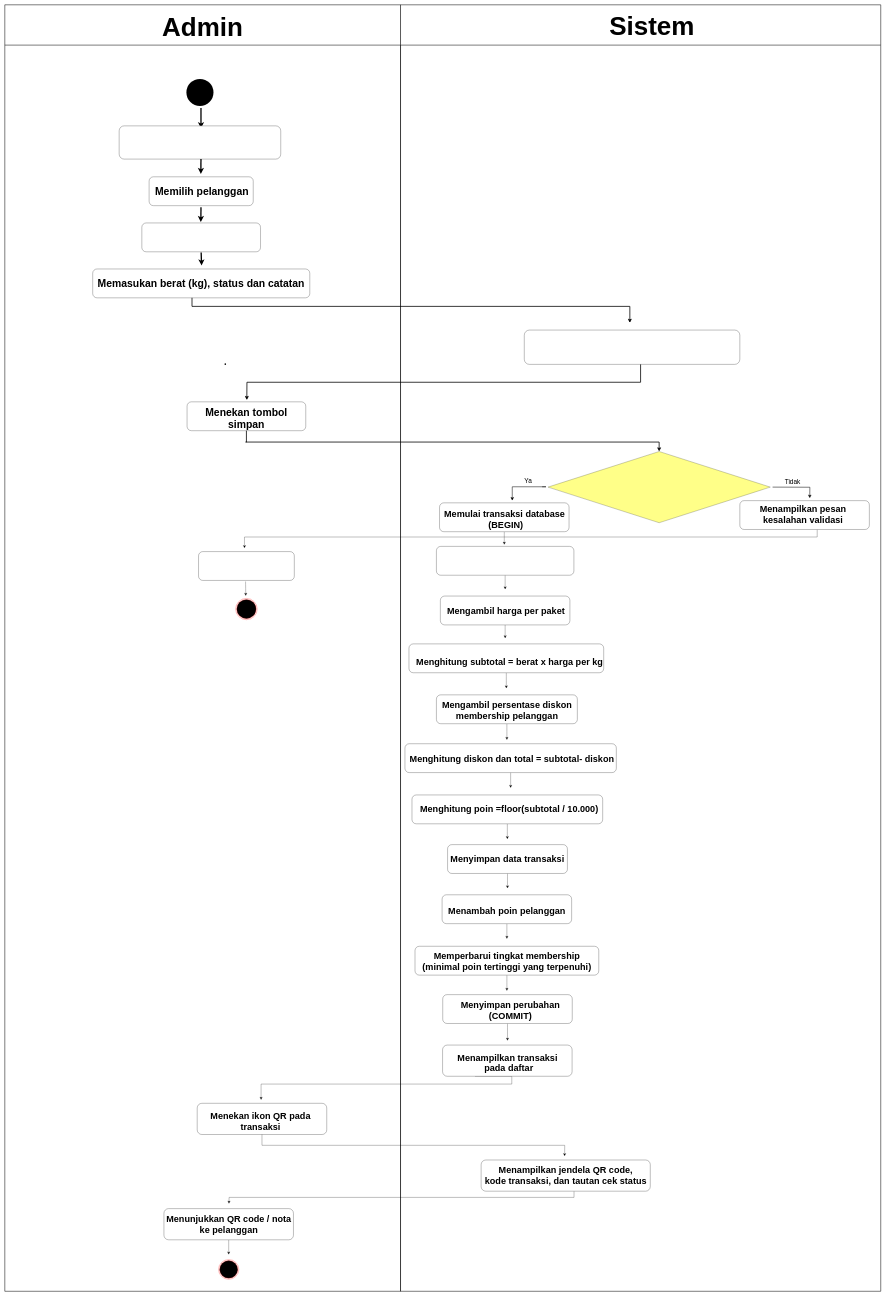
The diagram is 885 pixels wide and 1296 high, and some of its shapes have lost their labels. The shapes that lost their labels are listed below. From the top down, each one's centre as x and y in pixels, then its label:
At point (200, 142): "Membuka halaman transaksi dan form transaksi baru".
At point (201, 237): "Memilih paket laundry".
At point (632, 347): "Menampilkan harga per kg dan subtotal secara langsung".
At point (659, 487): "Data valid ? (pelanggan,paket terpilih,berat >=0,01".
At point (246, 565): "Memperbaiki isian form".
At point (505, 560): "Membuat kode transaksi unik TRX +YmdHis + 2 digit acak".
